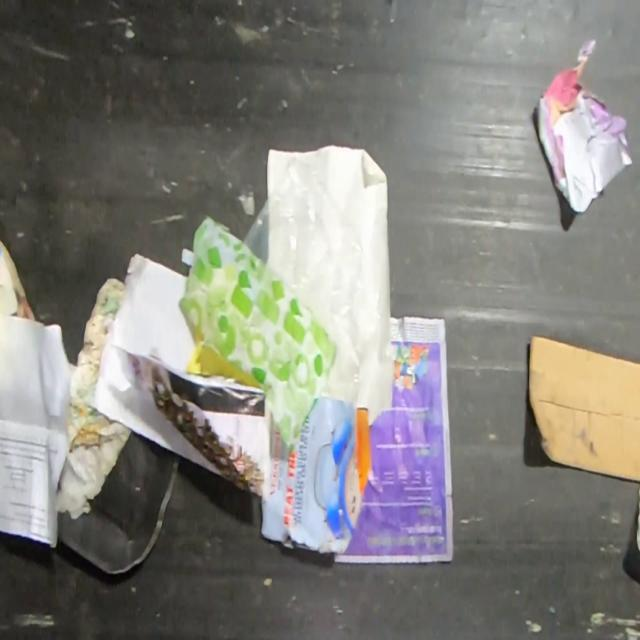cardboard: (259, 395, 374, 555), (528, 332, 640, 484)
rigid_plastic: (57, 429, 182, 576)
soft_plastic: (240, 157, 364, 404)
